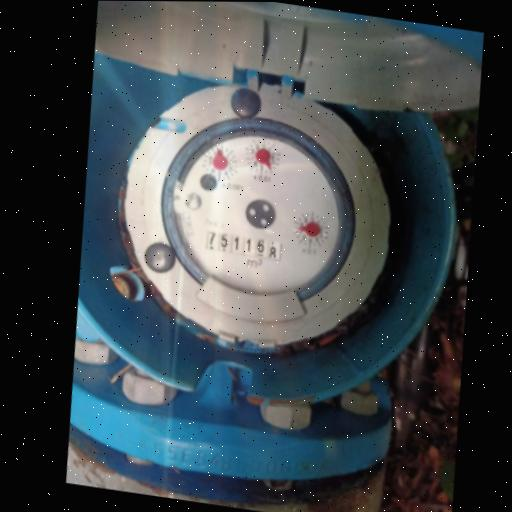1: (242, 237, 257, 255), (231, 237, 244, 255)
5: (218, 233, 233, 252)
6: (255, 240, 270, 259)
7: (206, 231, 221, 251)
8: (267, 242, 282, 260)
border_water_meter_number: (204, 230, 285, 261)
